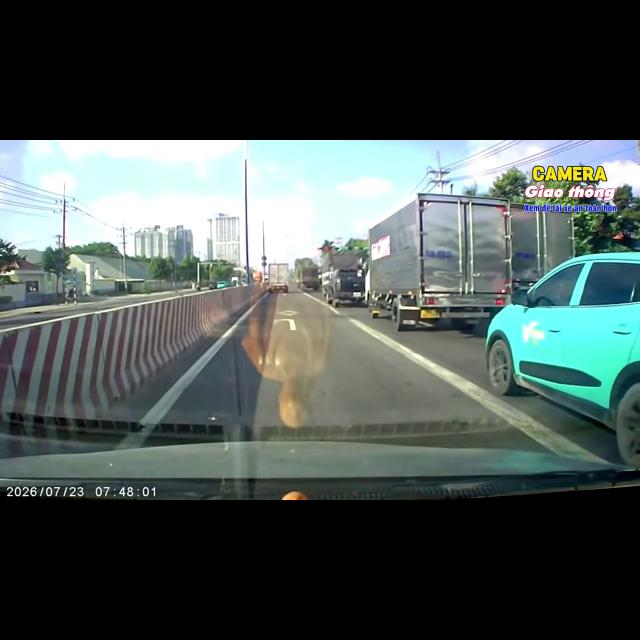car: (485, 252, 639, 465), (324, 270, 366, 306), (209, 281, 217, 289)
truck: (367, 193, 574, 330), (320, 246, 362, 278), (268, 263, 289, 292), (298, 267, 320, 290), (252, 271, 262, 283)
